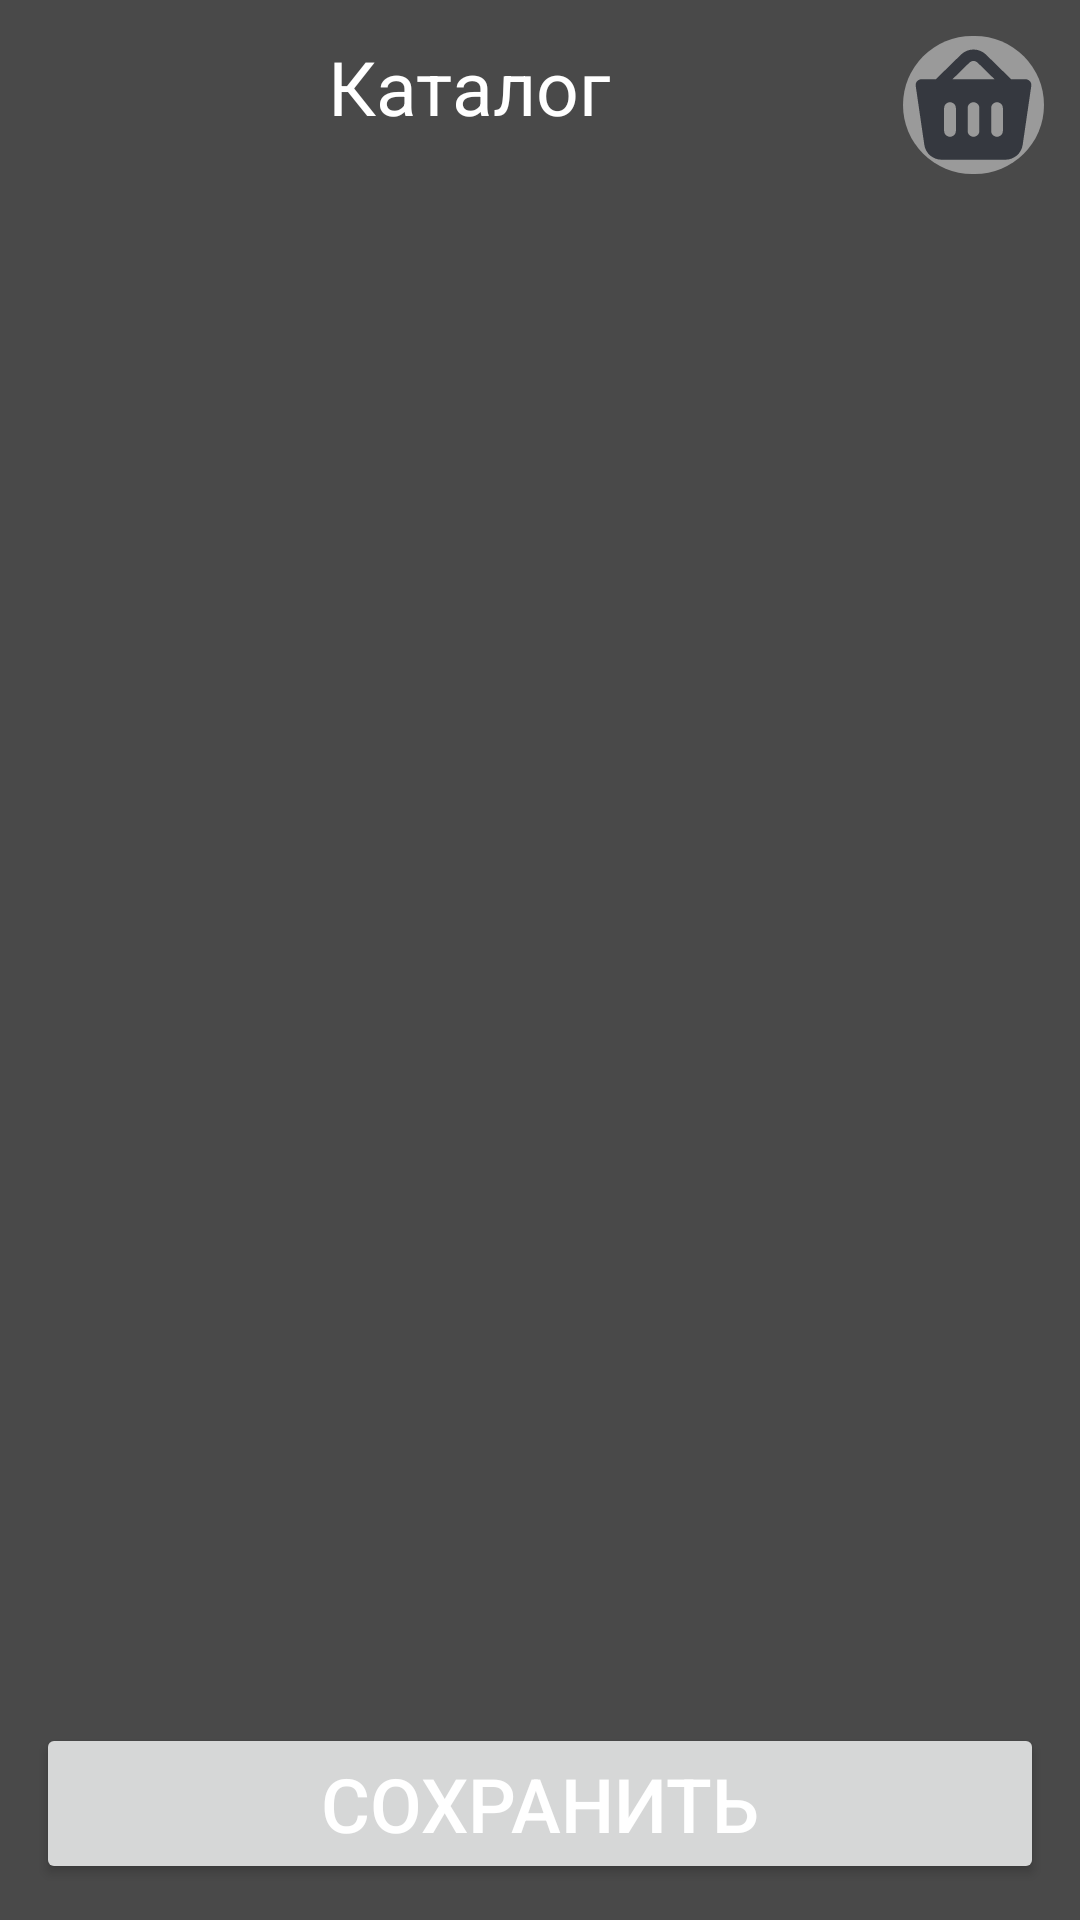

Screen size 1080 × 1920. Icon name, then its center in pixels as [x,y]:
cart: [973,105]
